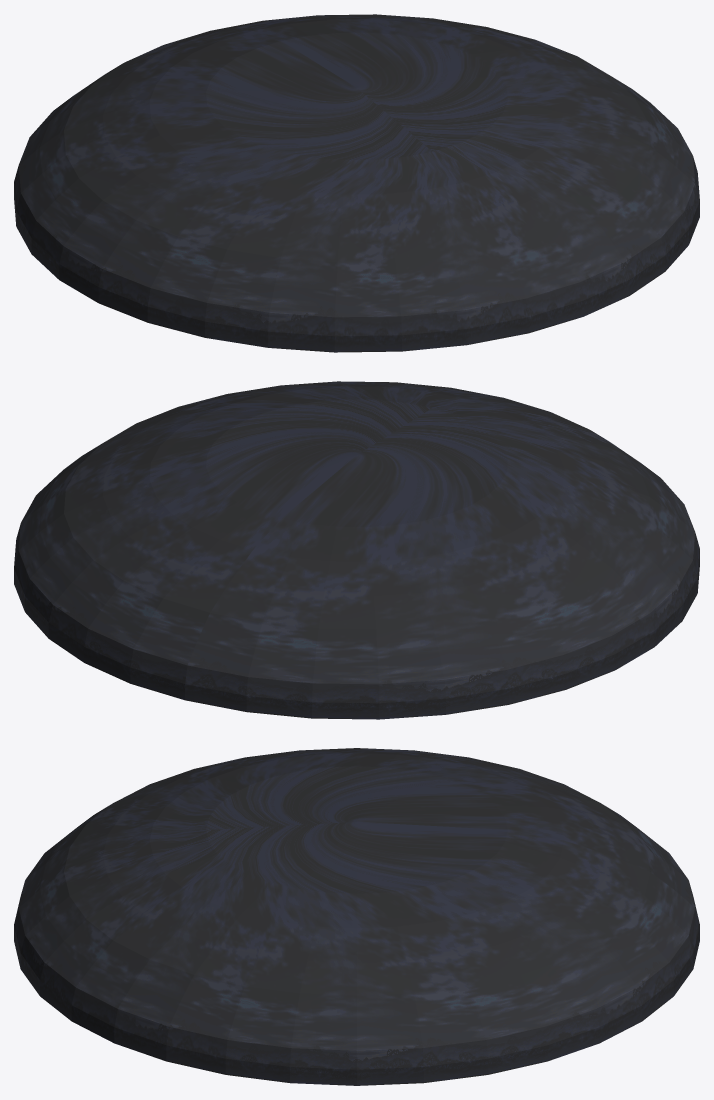
The model's file is ShipSkyboxDisc.obj.
The picture shows the model from 3 angles, top to bottom: view 1: azimuth 30°, elevation 25°; view 2: azimuth 150°, elevation 25°; view 3: azimuth 270°, elevation 25°; orthographic projection.
Parts seen in each view (by area): view 1: Cylinder; view 2: Cylinder; view 3: Cylinder.
Part boxes in pixels (left/top/right/bottom): Cylinder: left=14, top=14, right=699, bottom=352; Cylinder: left=14, top=381, right=699, bottom=719; Cylinder: left=14, top=748, right=699, bottom=1085.
Bounding box in the file's own units: 16.52 × 3.17 × 16.52.
Materials: 1 (1 with a texture image).
